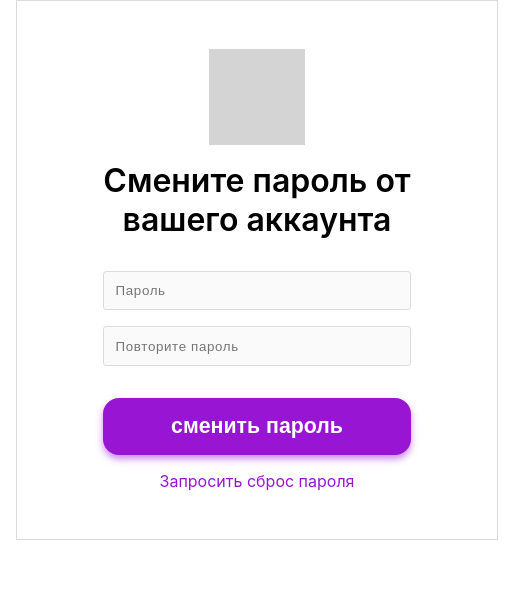
Scenario: ResetPasswordComponent › reports when password and repeated password differ
Type "Hunter2" into the password field with placeholder "Пароль" at (257,291), box top-left (103, 271), bottom-right (411, 310)
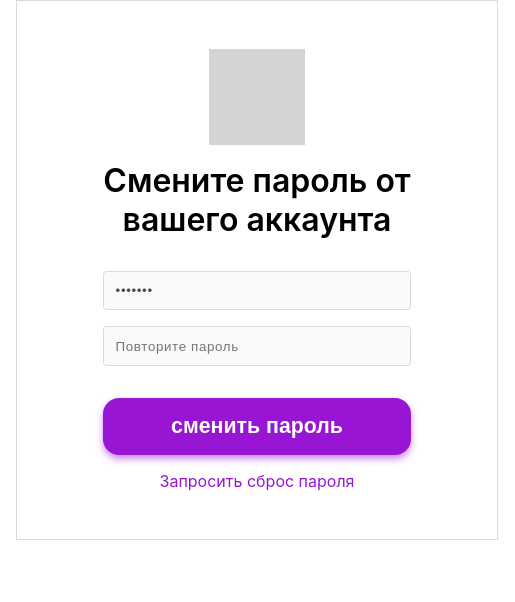
Type "Hunter" into the password field with placeholder "Повторите пароль" at (257,346), box top-left (103, 326), bottom-right (411, 366)
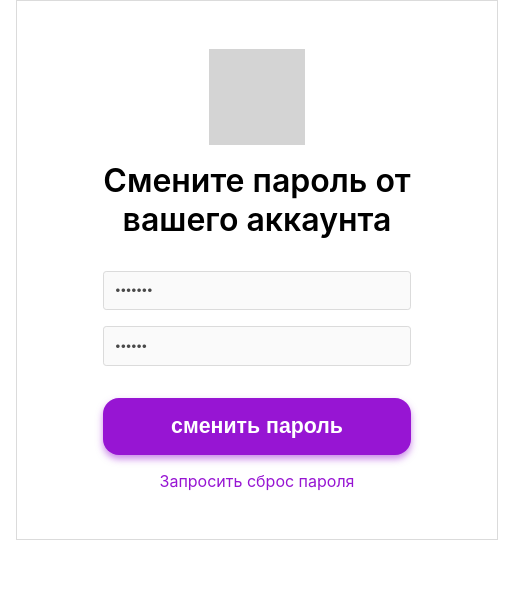
Click the button "сменить пароль" at (257,426), box top-left (103, 398), bottom-right (411, 455)
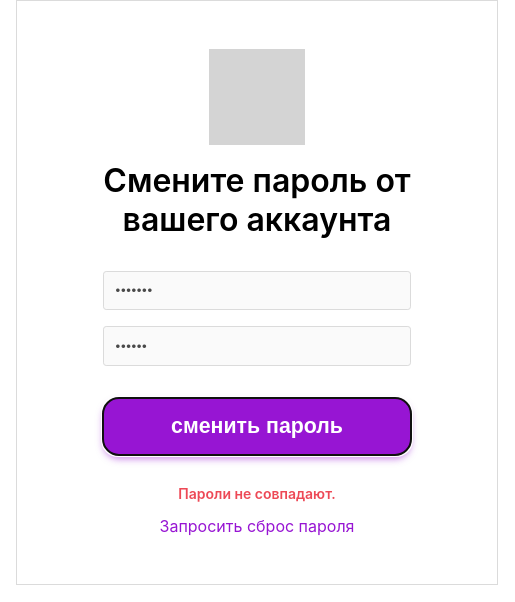
Check: the text "Пароли не совпадают." is shown, box top-left (178, 485), bottom-right (336, 502)
